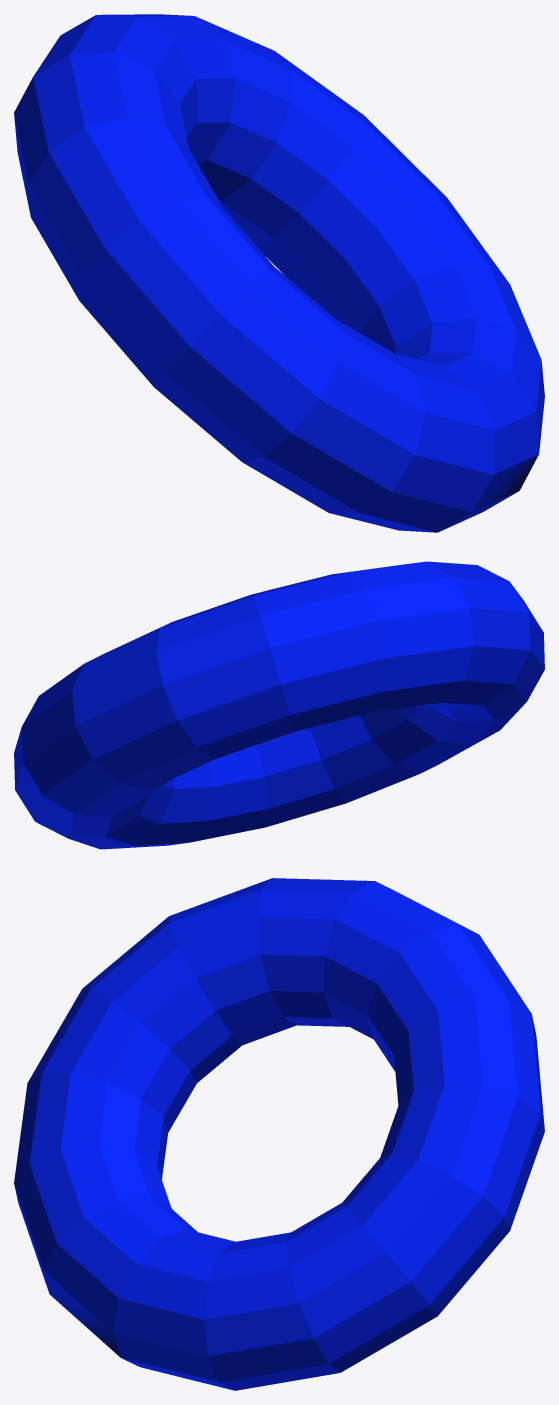
Rendered from flotador3.obj.
3 renders of one model, top to bottom at view 1: azimuth 30°, elevation 25°; view 2: azimuth 150°, elevation 25°; view 3: azimuth 270°, elevation 25°, orthographic. The views are drawn at different scales.
Parts seen in each view (by area): view 1: Torus.001_Torus.006; view 2: Torus.001_Torus.006; view 3: Torus.001_Torus.006.
Boxes of the visible parts, left/top/right/bottom form: Torus.001_Torus.006: left=14, top=14, right=544, bottom=532; Torus.001_Torus.006: left=14, top=561, right=544, bottom=849; Torus.001_Torus.006: left=14, top=878, right=544, bottom=1390.
Bounding box in the file's own units: 3.25 × 2.71 × 3.49.
1 material, 1 textured.
